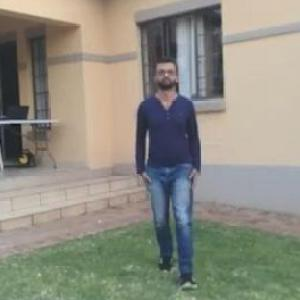follow: (134, 49, 201, 250)
